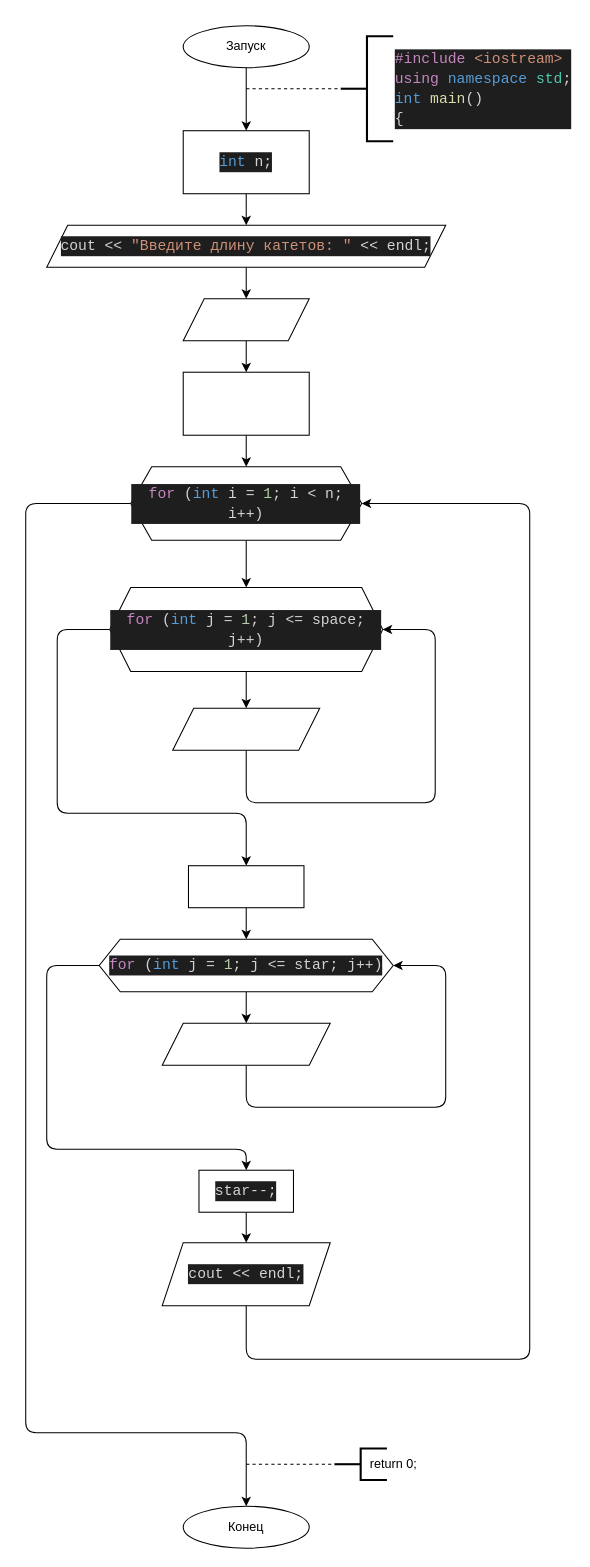
Image size: 590x1567. Some labels were removed from this diagram. The box of each missing label's shape, as (x1, y1, x2, y2) in pixels:
cin >> n;: (182, 298, 309, 341)
cout << " " ;: (172, 707, 320, 750)
cout << "* " ;: (161, 1022, 330, 1065)
int star = n, space = 1 ;: (182, 371, 309, 435)
space++;: (187, 865, 304, 908)
